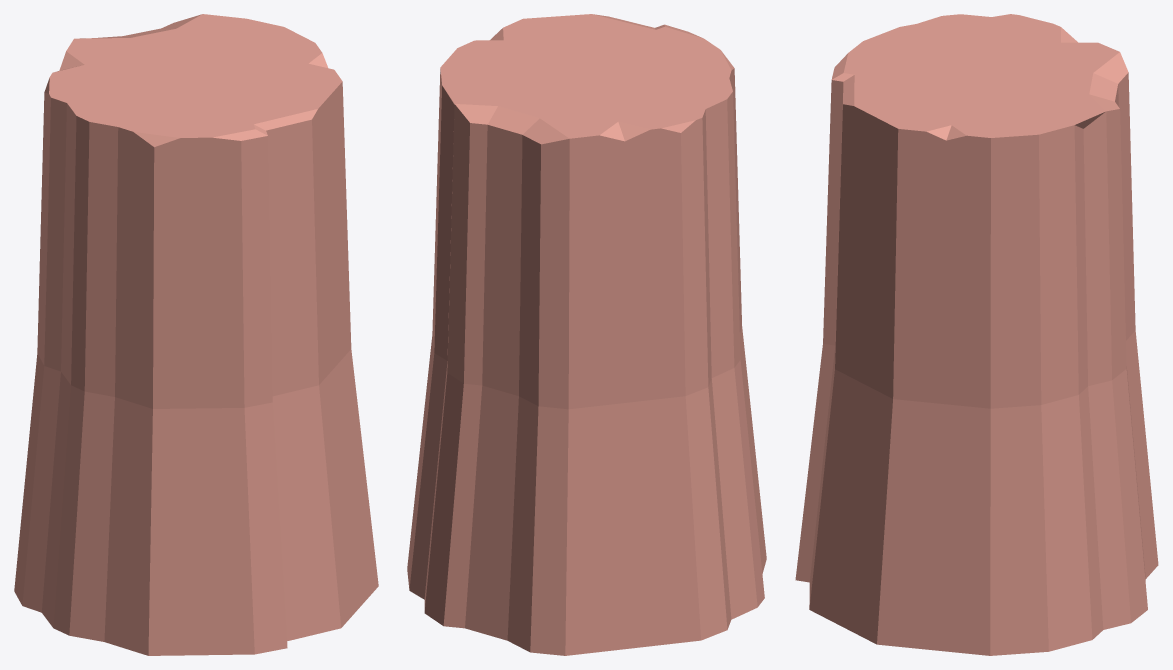
File: Cylinder_039_Vlad.fbx
3 renders of one model, left to right at view 1: azimuth 30°, elevation 25°; view 2: azimuth 150°, elevation 25°; view 3: azimuth 270°, elevation 25°, orthographic.
Parts seen in each view (by area): view 1: Cylinder.039; view 2: Cylinder.039; view 3: Cylinder.039.
Boxes of the visible parts, x1=… form: Cylinder.039: x1=14, y1=14, x2=378, y2=655; Cylinder.039: x1=407, y1=14, x2=766, y2=655; Cylinder.039: x1=795, y1=14, x2=1158, y2=655.
Size of the model in its own units: 323 by 500 by 327.
